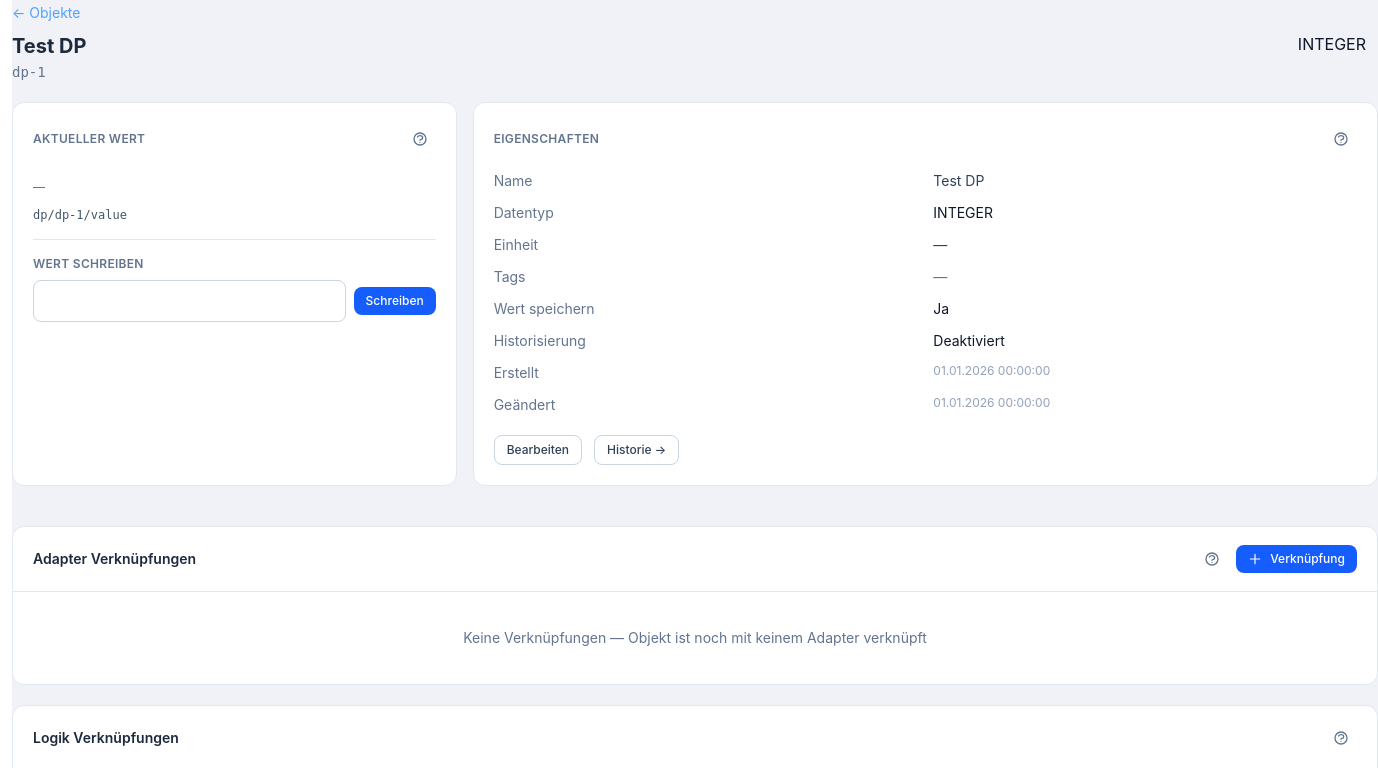
Test case: DataPointDetailView — numeric NaN guard › shows invalid-number error when INTEGER receives non-numeric input
The image size is (1378, 768).
Type "abc" into the field at coordinates (189, 301), box left=33, top=280, right=346, bottom=322
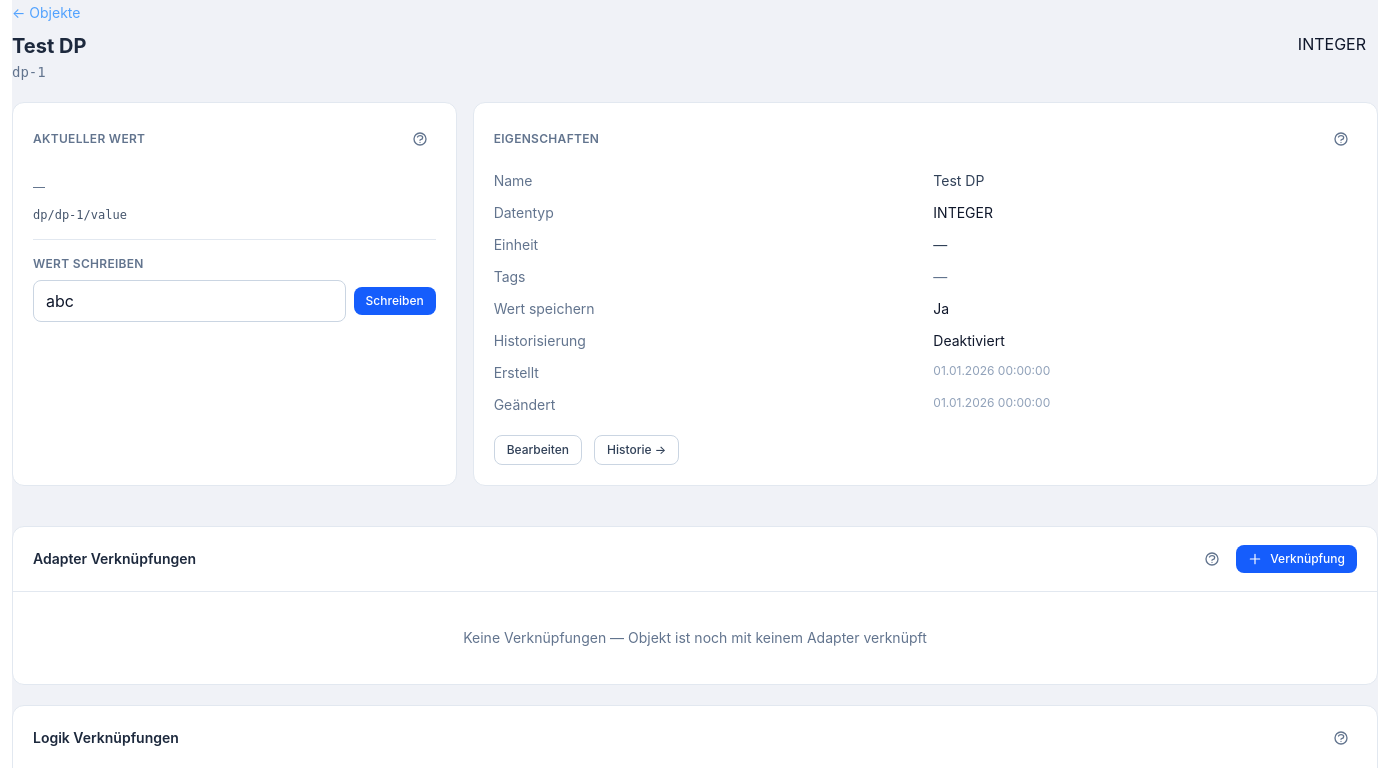
Click the button "Schreiben" at coordinates (395, 301), box left=354, top=287, right=436, bottom=315
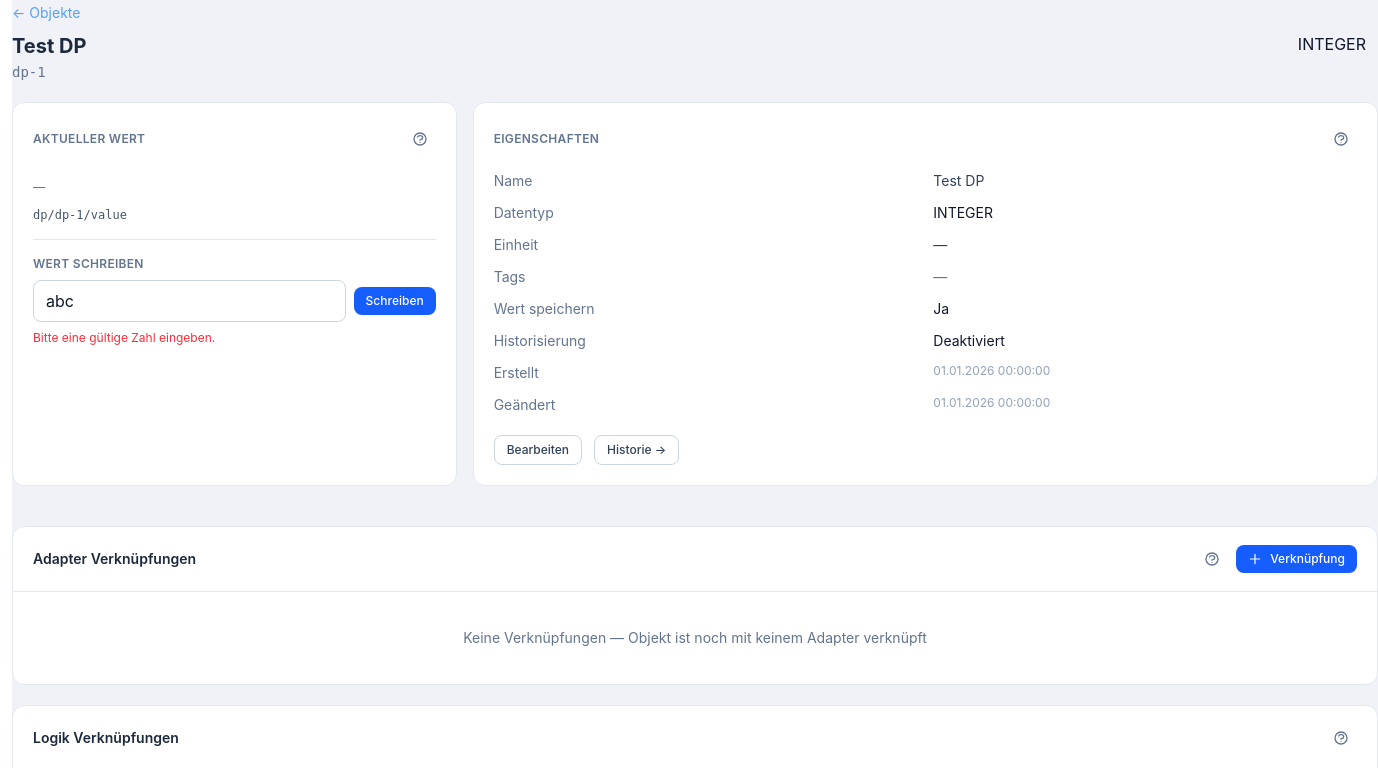
Result: the text "Bitte eine gültige Zahl eingeben." is shown at left=33, top=330, right=215, bottom=345
